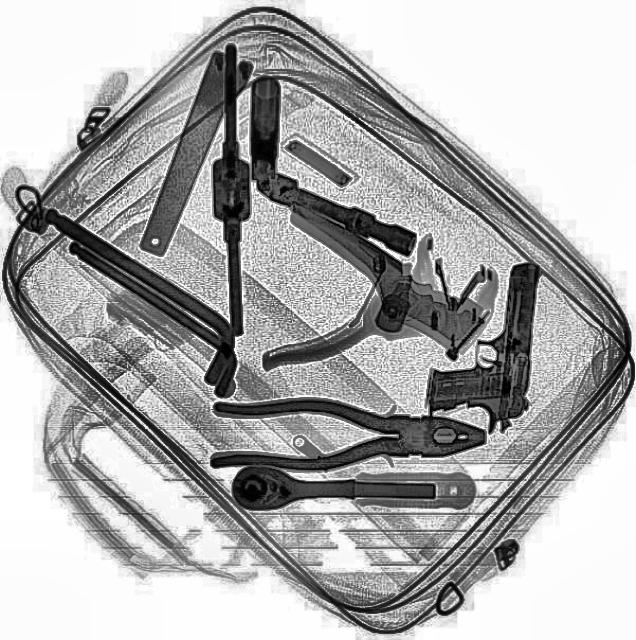Gun: (423, 255, 539, 430)
Pliers: (204, 396, 486, 474)
